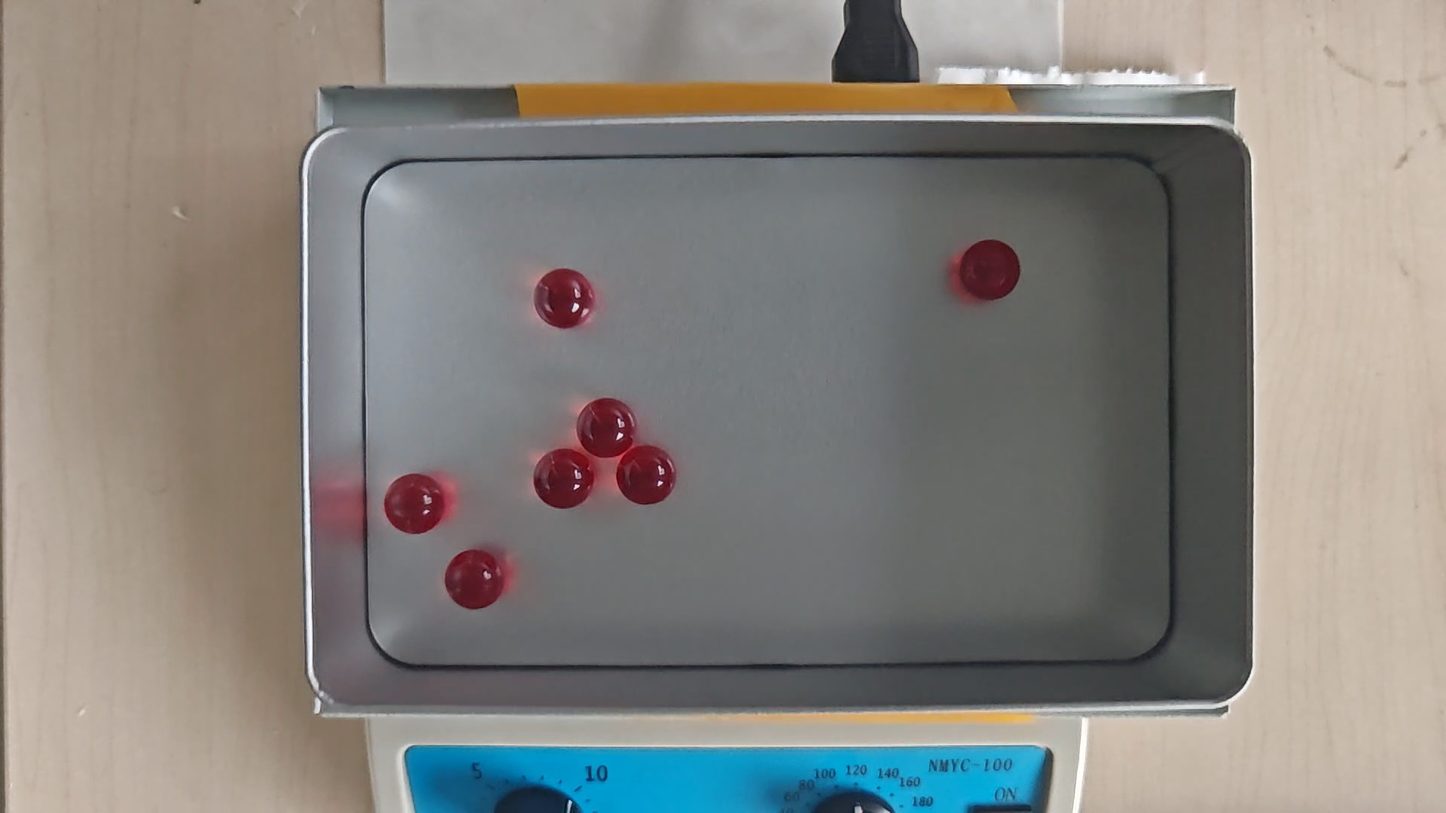ball: (532, 266, 594, 329), (383, 473, 443, 537), (534, 449, 594, 509), (446, 549, 505, 610), (961, 240, 1020, 299), (616, 448, 677, 504), (576, 399, 634, 455)
container: (357, 154, 1173, 666)
